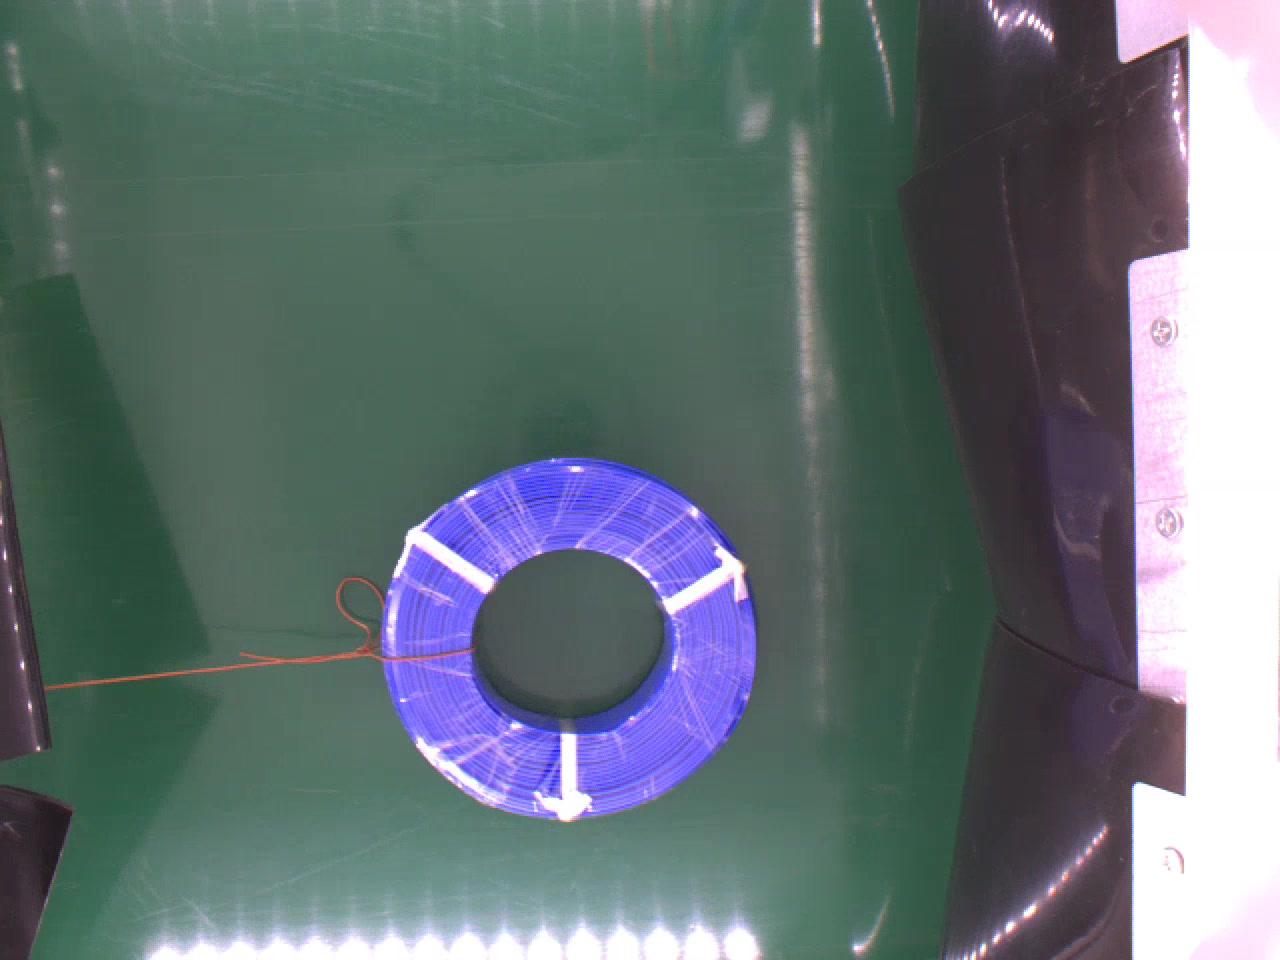blue: (367, 447, 761, 819)
